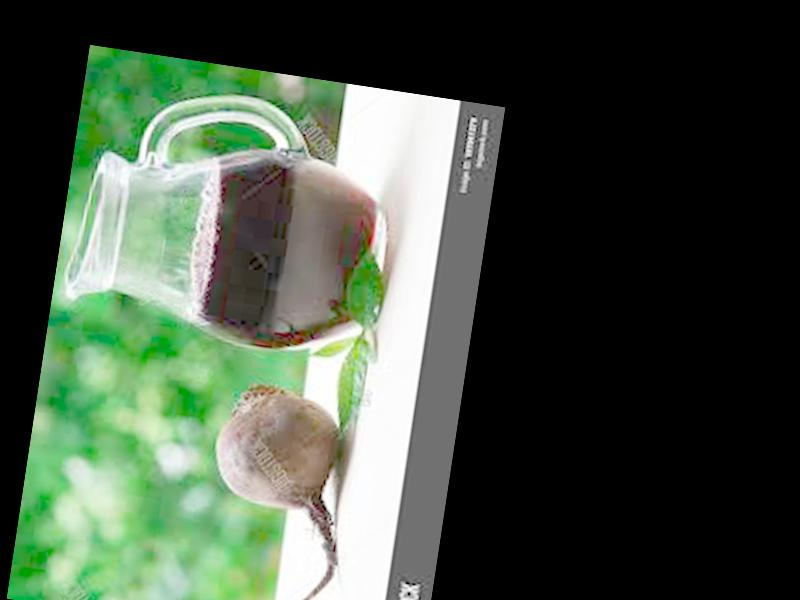Beet: (195, 381, 362, 600)
